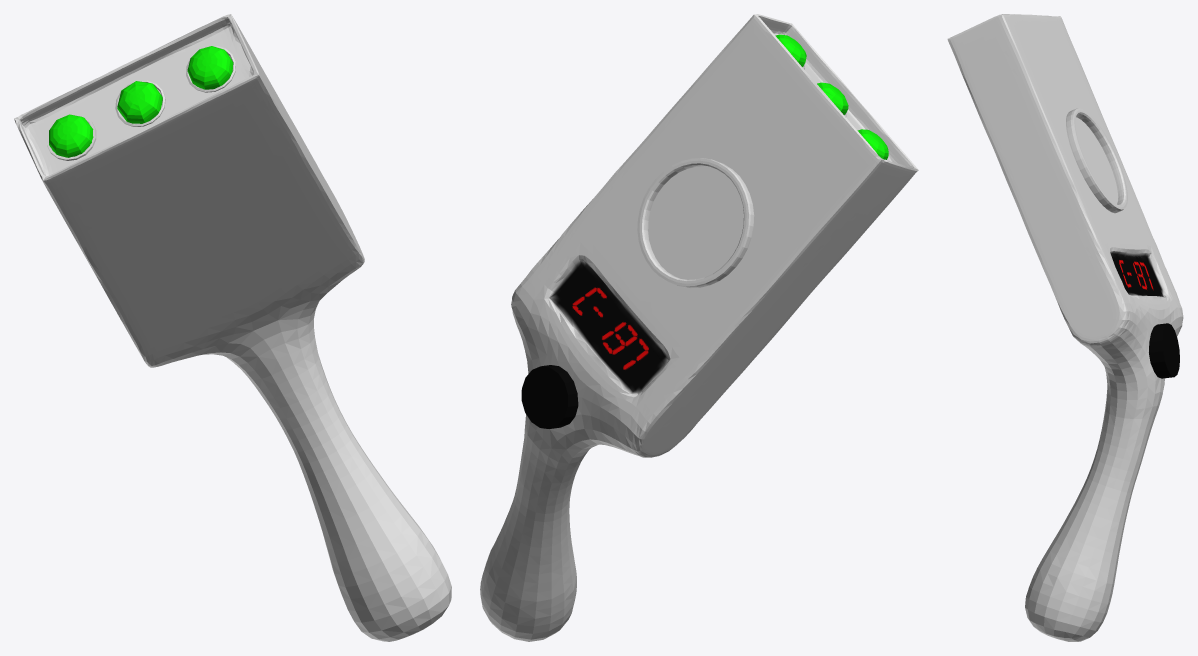
The model's file is portal gun.OBJ.
3 views of the same model, side by side, from view 1: azimuth 30°, elevation 25°; view 2: azimuth 150°, elevation 25°; view 3: azimuth 270°, elevation 25° (orthographic). The views are drawn at different scales.
Visible parts, largest first — view 1: ZBrushPolyMesh3D; view 2: ZBrushPolyMesh3D; view 3: ZBrushPolyMesh3D.
Part boxes in pixels (x1,y1,x2,y2): ZBrushPolyMesh3D: [14, 14, 451, 641]; ZBrushPolyMesh3D: [480, 14, 918, 641]; ZBrushPolyMesh3D: [947, 14, 1183, 641].
Bounding box in the file's own units: 0.3936 × 0.6022 × 0.2357.
